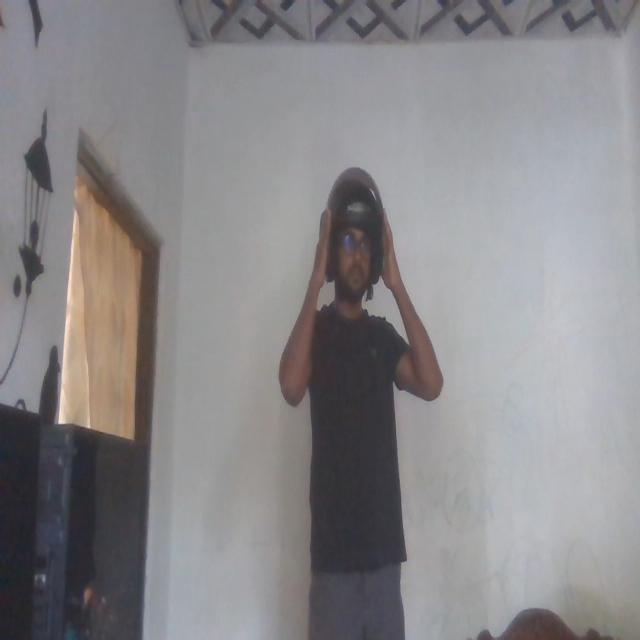Helmet_Wearer: (304, 158, 398, 327)
Person: (270, 165, 436, 640)
